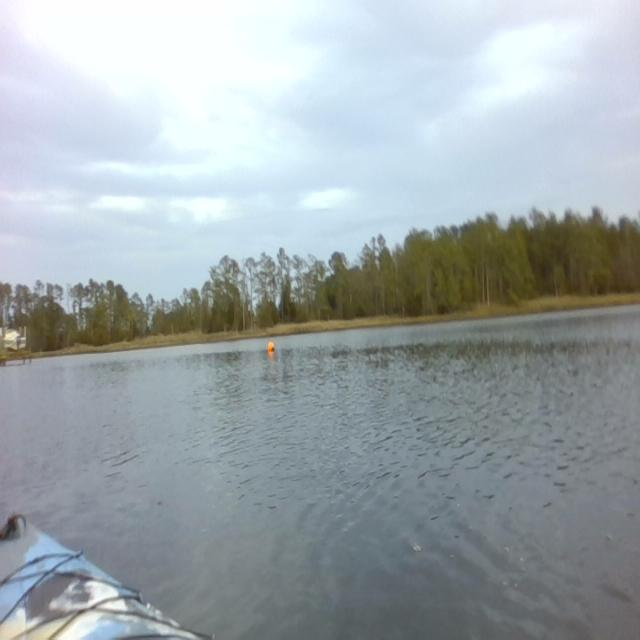Buoy: (267, 340, 275, 354)
